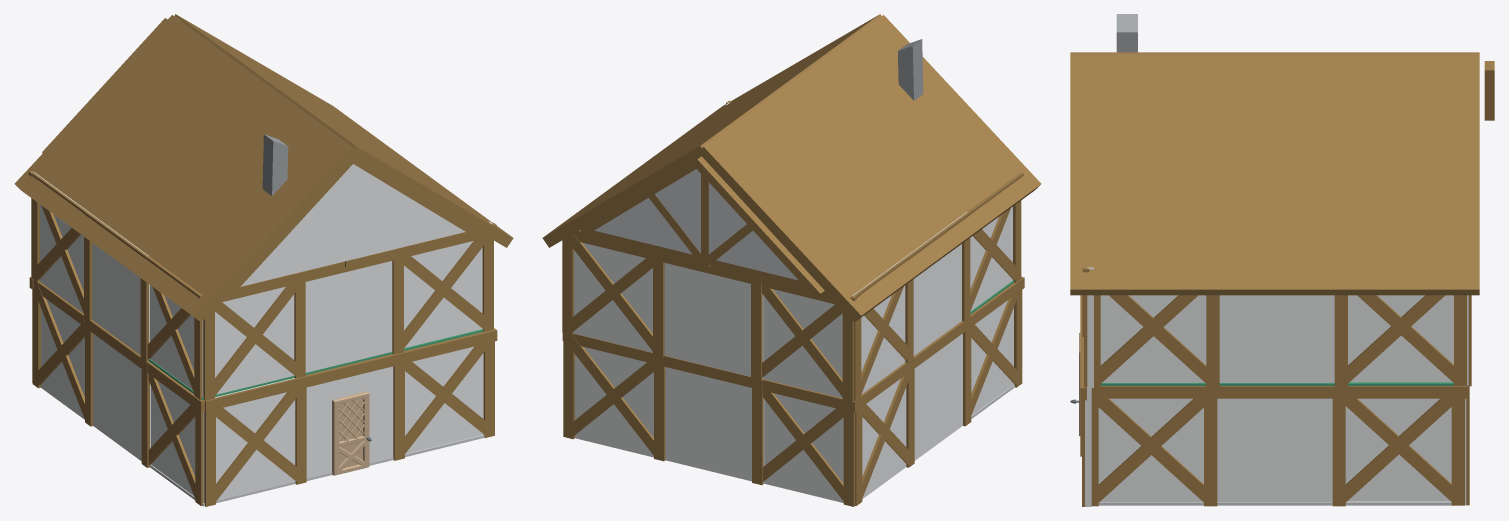
The model's file is Faeghal House Aadit.fbx.
3 views of the same model, side by side, from view 1: azimuth 30°, elevation 25°; view 2: azimuth 150°, elevation 25°; view 3: azimuth 270°, elevation 25° (orthographic). The views are drawn at different scales.
Visible parts, largest first — view 1: obj_0; view 2: obj_0; view 3: obj_0.
Part boxes in pixels (bbox=[...]): obj_0: bbox=[14, 14, 513, 506]; obj_0: bbox=[542, 14, 1041, 506]; obj_0: bbox=[1070, 14, 1494, 506].
Size of the model in its own units: 13374 by 13368 by 13570.
